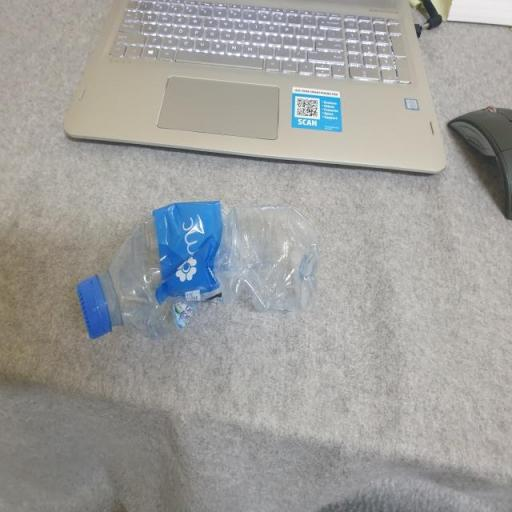plastic: (70, 201, 322, 346)
